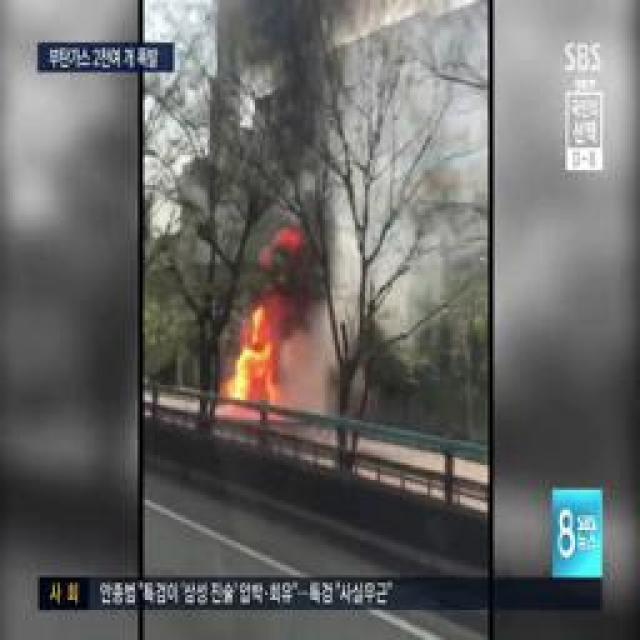Fire: (217, 294, 292, 407)
